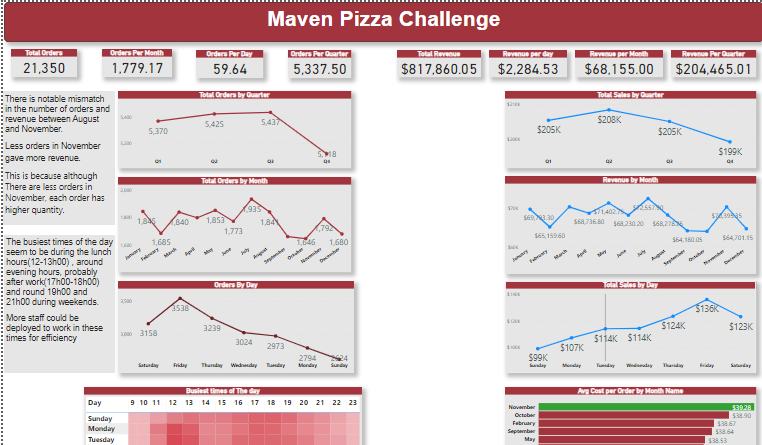

The page's visual inventory and layout, read from the dashboard file:
{"tool":"powerbi","page":{"name":"Dashboard","canvas":[1900,1900],"ordinal":0},"visuals":[{"type":"card","title":"Orders Per Month","fields":{"Values":["Pizza_orders.Orders Per Month"]},"box":[246.7,117.5,175,70],"z":0},{"type":"card","title":"Total Orders","fields":{"Values":["order_details.Total Orders"]},"box":[20,117.5,165,70],"z":1000},{"type":"card","title":"Orders Per Day","fields":{"Values":["Pizza_orders.Order per day"]},"box":[483.3,120,167.5,70],"z":2000},{"type":"card","title":"Orders Per Quarter","fields":{"Values":["Pizza_orders.Orders per Quarter"]},"box":[712.5,120,157.5,70],"z":3000},{"type":"card","title":"Revenue Per Quarter","fields":{"Values":["order_details.Revenue per Quarter"]},"box":[1670,120,212.5,67.5],"z":4000},{"type":"card","title":"Total Revenue","fields":{"Values":["Sum(Pizza_orders.Total Sales)"]},"box":[985,120,210,67.5],"z":5000},{"type":"card","title":"Revenue per day","fields":{"Values":["order_details.Revenue per day"]},"box":[1215,120,195,67.5],"z":6000},{"type":"card","title":"Revenue per Month","fields":{"Values":["order_details.Revenue per Month"]},"box":[1430,120,220,67.5],"z":7000},{"type":"card","title":"Highest Grossing Pizza","fields":{"Values":["Min(pizza_types.name)"]},"box":[977.5,1305,425,90],"z":8000},{"type":"card","title":"Lowest Grossing Pizza","fields":{"Values":["Min(pizza_types.name)"]},"box":[1515,1305,367.5,90],"z":9000},{"type":"card","title":"Most Popular Pizza","fields":{"Values":["Min(pizza_types.name)"]},"box":[420,1305,437.5,90],"z":10000},{"type":"card","title":"Least Popular Pizza","fields":{"Values":["Min(pizza_types.name)"]},"box":[102.5,1305,285,90],"z":11000},{"type":"lineChart","title":"Total Orders by Month","fields":{"Category":["orders.Month Name"],"Y":["order_details.Total Orders"]},"box":[287.5,437.5,582.5,237.5],"z":12000},{"type":"lineChart","title":"Total Orders by Quarter","fields":{"Category":["orders.Name of Quarter"],"Y":["order_details.Total Orders"]},"box":[287.5,222.5,582.5,192.5],"z":13000},{"type":"lineChart","title":"Orders By Day","fields":{"Category":["orders.Day Name"],"Y":["Count(Pizza_orders.order_id)"]},"box":[287.5,697.5,590,230],"z":14000},{"type":"lineChart","title":"Revenue by Month","fields":{"Category":["orders.date.Variation.Date Hierarchy.Month"],"Y":["Sum(Pizza_orders.Total Sales)"]},"box":[1255,435,627.5,245],"z":15000},{"type":"lineChart","title":"Total Sales by Quarter","fields":{"Category":["orders.Name of Quarter"],"Y":["Sum(Pizza_orders.Total Sales)"]},"box":[1255,222.5,627.5,192.5],"z":16000},{"type":"lineChart","title":"Total Sales by Day","fields":{"Category":["orders.Day Name"],"Y":["Sum(Pizza_orders.Total Sales)"]},"box":[1255,697.5,627.5,230],"z":17000},{"type":"clusteredBarChart","fields":{"Category":["pizza_types.category"],"Y":["order_details.Total Orders"]},"box":[102.5,1415,265,427.5],"z":18000},{"type":"clusteredBarChart","title":"Top 5 ordered Pizzas","fields":{"Category":["pizza_types.name"],"Y":["order_details.Total Orders"]},"box":[420,1415,442.5,442.5],"z":19000},{"type":"clusteredBarChart","title":"Top 5 selling pizzas by Revenue","fields":{"Category":["Pizza_orders.pizzas.pizza_type_id"],"Y":["Sum(Pizza_orders.Total Sales)"]},"box":[965,1415,437.5,457.5],"z":20000},{"type":"clusteredBarChart","title":"Bottom 5 selling pizzas","fields":{"Category":["Pizza_orders.pizzas.pizza_type_id"],"Y":["Sum(Pizza_orders.Total Sales)"]},"box":[1515,1415,367.5,485],"z":21000},{"type":"pivotTable","title":"Busiest times of The day","fields":{"Values":["Count(Pizza_orders.order_id)"],"Columns":["orders.Hour"],"Rows":["orders.Day Name"]},"box":[202.5,962.5,695,297.5],"z":22000},{"type":"barChart","fields":{"Category":["orders.Month Name"],"Y":["Pizza_orders.Avg Cost per Order"]},"box":[1255,962.5,627.5,297.5],"z":23000},{"type":"textbox","box":[0,222.5,280,335],"z":24000},{"type":"shape","box":[0,1305,1900,595],"z":25000},{"type":"textbox","box":[2.5,582.5,277.5,345],"z":26000},{"type":"textbox","box":[2.5,0,1897.5,100],"z":27000}]}

Visuals, with their boxes on the page's 1900x1900 design canvas (x1, y1, x2, y2). These are canvas units, not pixel positions in the 762x445 screenshot, which may show the page scaled, cropped or inside an application window:
"Orders Per Month" card: x1=247 y1=118 x2=422 y2=188
"Total Orders" card: x1=20 y1=118 x2=185 y2=188
"Orders Per Day" card: x1=483 y1=120 x2=651 y2=190
"Orders Per Quarter" card: x1=712 y1=120 x2=870 y2=190
"Revenue Per Quarter" card: x1=1670 y1=120 x2=1882 y2=188
"Total Revenue" card: x1=985 y1=120 x2=1195 y2=188
"Revenue per day" card: x1=1215 y1=120 x2=1410 y2=188
"Revenue per Month" card: x1=1430 y1=120 x2=1650 y2=188
"Highest Grossing Pizza" card: x1=978 y1=1305 x2=1402 y2=1395
"Lowest Grossing Pizza" card: x1=1515 y1=1305 x2=1882 y2=1395
"Most Popular Pizza" card: x1=420 y1=1305 x2=858 y2=1395
"Least Popular Pizza" card: x1=102 y1=1305 x2=388 y2=1395
"Total Orders by Month" lineChart: x1=288 y1=438 x2=870 y2=675
"Total Orders by Quarter" lineChart: x1=288 y1=222 x2=870 y2=415
"Orders By Day" lineChart: x1=288 y1=698 x2=878 y2=928
"Revenue by Month" lineChart: x1=1255 y1=435 x2=1882 y2=680
"Total Sales by Quarter" lineChart: x1=1255 y1=222 x2=1882 y2=415
"Total Sales by Day" lineChart: x1=1255 y1=698 x2=1882 y2=928
clusteredBarChart - pizza_types.category x order_details.Total Orders: x1=102 y1=1415 x2=368 y2=1842
"Top 5 ordered Pizzas" clusteredBarChart: x1=420 y1=1415 x2=862 y2=1858
"Top 5 selling pizzas by Revenue" clusteredBarChart: x1=965 y1=1415 x2=1402 y2=1872
"Bottom 5 selling pizzas" clusteredBarChart: x1=1515 y1=1415 x2=1882 y2=1900
"Busiest times of The day" pivotTable: x1=202 y1=962 x2=898 y2=1260
barChart - orders.Month Name x Pizza_orders.Avg Cost per Order: x1=1255 y1=962 x2=1882 y2=1260
textbox: x1=0 y1=222 x2=280 y2=558
shape: x1=0 y1=1305 x2=1900 y2=1900
textbox: x1=2 y1=582 x2=280 y2=928
textbox: x1=2 y1=0 x2=1900 y2=100
